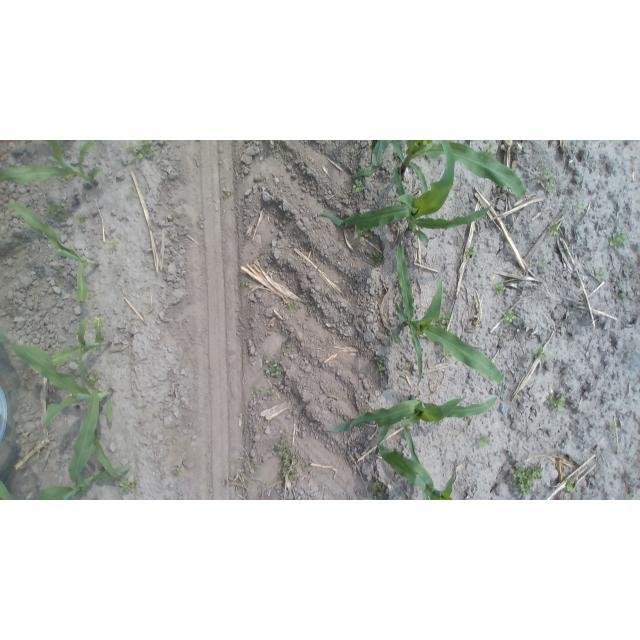Maize: (0, 331, 116, 490), (316, 141, 494, 243), (391, 241, 505, 388), (1, 200, 101, 305), (331, 391, 504, 445), (384, 140, 528, 202), (28, 315, 112, 398), (376, 428, 469, 500), (0, 453, 136, 500), (0, 140, 102, 189)
Weeds: (275, 426, 301, 482), (507, 464, 545, 498), (126, 140, 161, 160), (540, 162, 560, 196), (264, 140, 289, 160), (263, 358, 286, 379), (45, 202, 69, 222), (366, 479, 386, 500), (604, 228, 624, 248), (546, 393, 567, 412), (118, 477, 138, 495), (548, 222, 564, 241), (280, 338, 294, 358), (533, 345, 549, 362), (285, 297, 302, 313), (502, 308, 518, 325), (354, 225, 373, 239), (493, 282, 509, 298), (387, 328, 402, 345), (349, 180, 365, 195), (563, 477, 577, 493), (439, 309, 451, 327), (55, 268, 66, 287), (89, 370, 101, 387), (238, 278, 254, 290), (465, 243, 476, 260), (594, 268, 607, 282), (480, 433, 493, 447), (76, 211, 87, 227), (375, 358, 387, 372), (219, 187, 232, 199), (265, 386, 278, 397), (109, 237, 119, 251), (609, 419, 619, 433), (251, 385, 262, 397), (372, 250, 383, 262), (127, 186, 138, 197), (171, 469, 184, 478), (486, 142, 495, 155), (537, 259, 548, 268), (574, 203, 583, 212), (618, 292, 627, 301), (627, 491, 636, 500), (234, 482, 242, 492), (242, 491, 250, 500), (170, 213, 178, 221), (407, 362, 413, 370)
